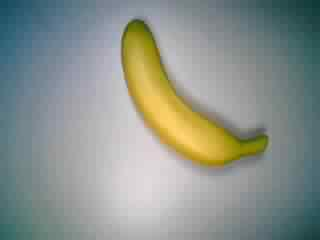banana: (118, 17, 270, 176)
